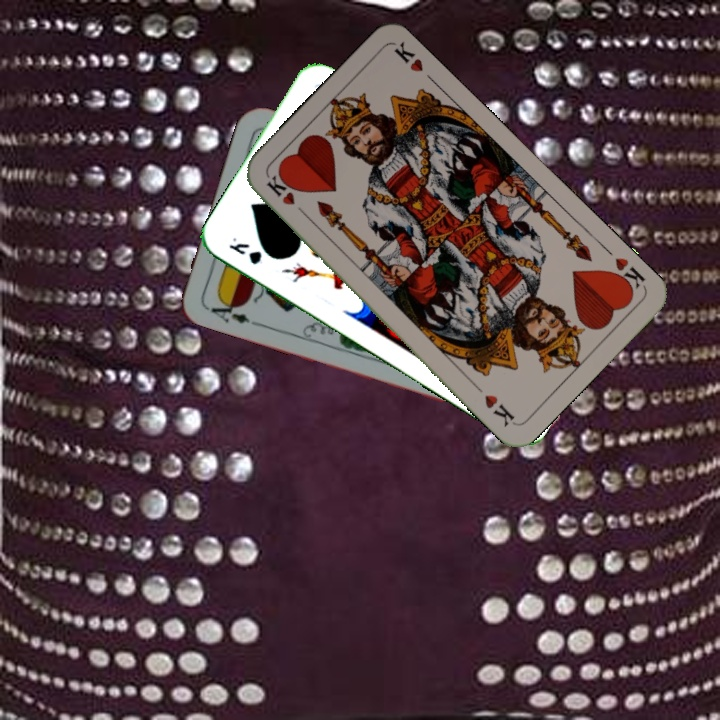EA: (202, 294, 260, 329)
GK: (224, 233, 266, 268)
HK: (262, 171, 311, 220), (605, 253, 648, 297)
